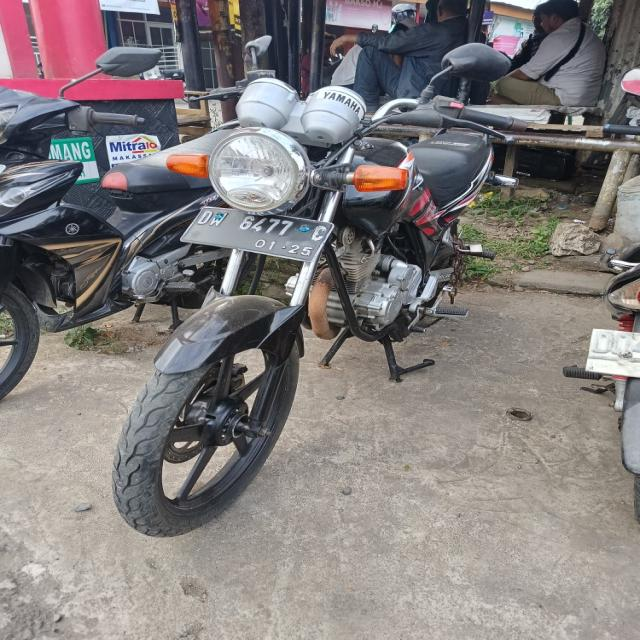plates: (182, 197, 328, 267)
